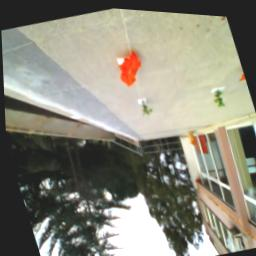herb: (135, 93, 155, 118), (209, 83, 227, 107)
wild: (113, 46, 148, 89)
